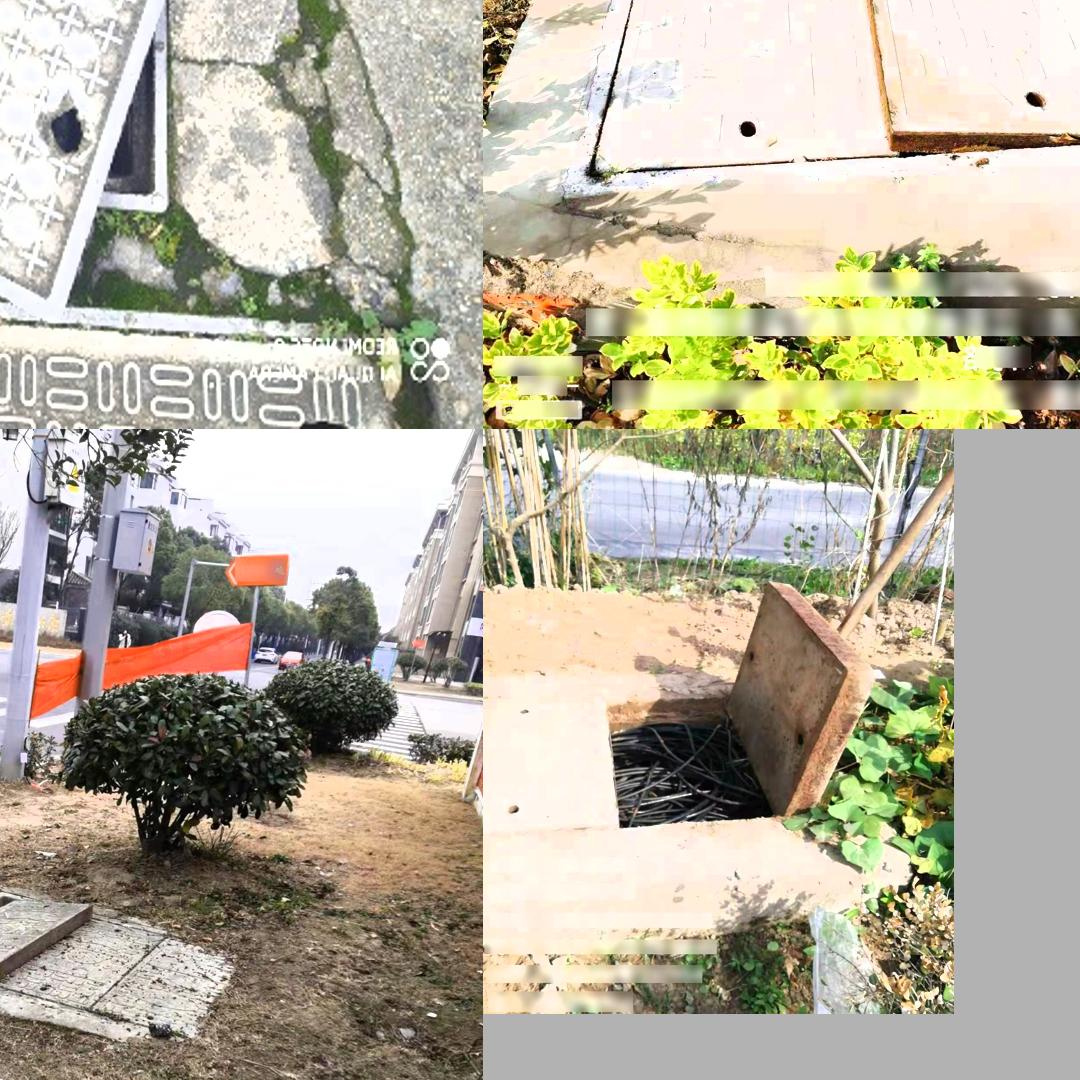uncovered: (560, 0, 1080, 194), (527, 577, 889, 837), (0, 0, 202, 312), (0, 892, 233, 1042)
